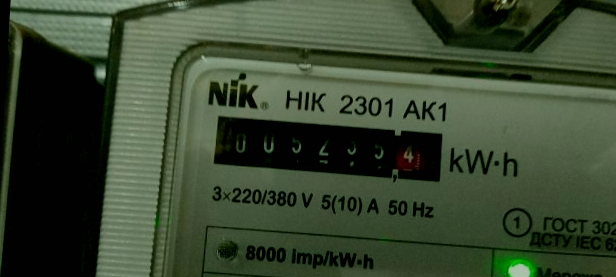0: (232, 129, 249, 156), (261, 129, 276, 154)
2: (316, 131, 331, 157)
3: (344, 131, 359, 157)
4: (400, 138, 417, 165)
5: (370, 134, 387, 161), (288, 129, 304, 156)
screen: (203, 106, 455, 191)
